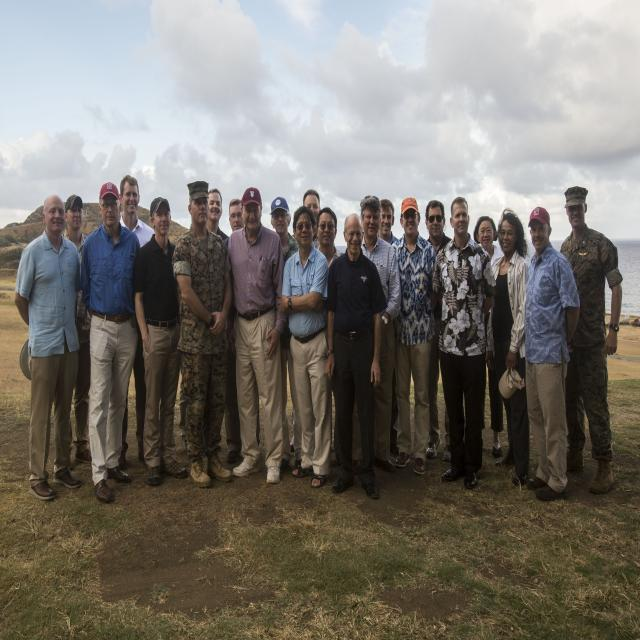body: (13, 192, 86, 504), (78, 180, 144, 505), (169, 178, 235, 491), (430, 194, 499, 492), (558, 185, 623, 496), (128, 195, 194, 490), (226, 184, 290, 487), (324, 211, 389, 504), (522, 205, 582, 504), (278, 203, 334, 491), (351, 194, 402, 478), (113, 173, 158, 470), (390, 197, 438, 475), (288, 186, 335, 453), (486, 208, 530, 489), (218, 198, 262, 466), (269, 196, 305, 472), (422, 199, 456, 462), (61, 193, 93, 471), (472, 214, 504, 458), (309, 207, 346, 351), (204, 187, 231, 243), (376, 198, 399, 246)
